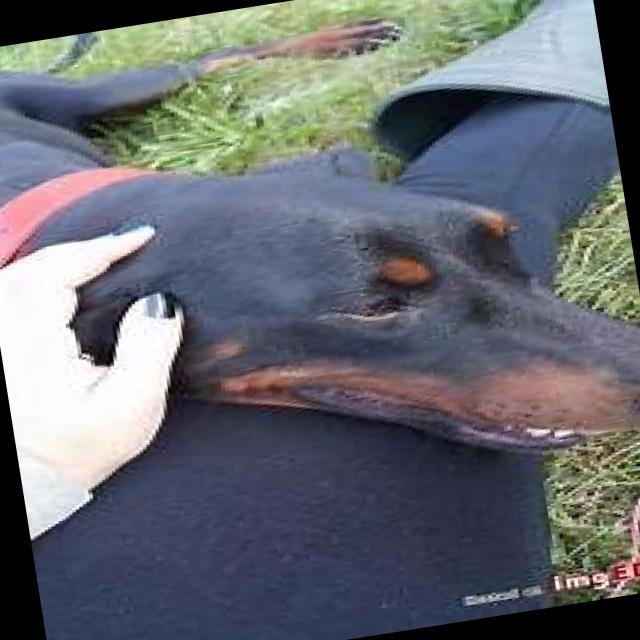animal: (0, 0, 640, 536)
